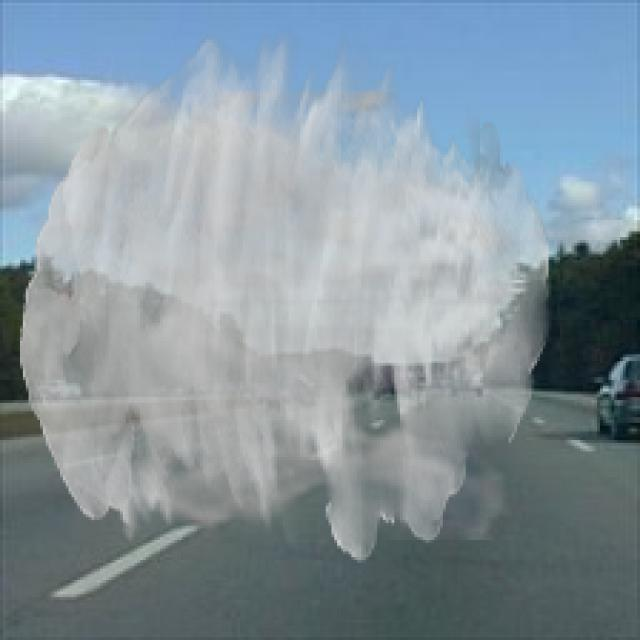smoke: (20, 28, 551, 563)
